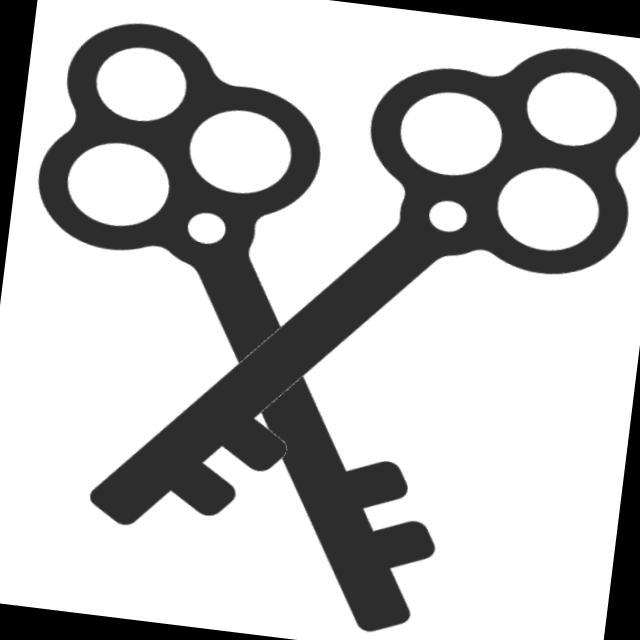key: (1, 1, 517, 640), (56, 24, 640, 587)
